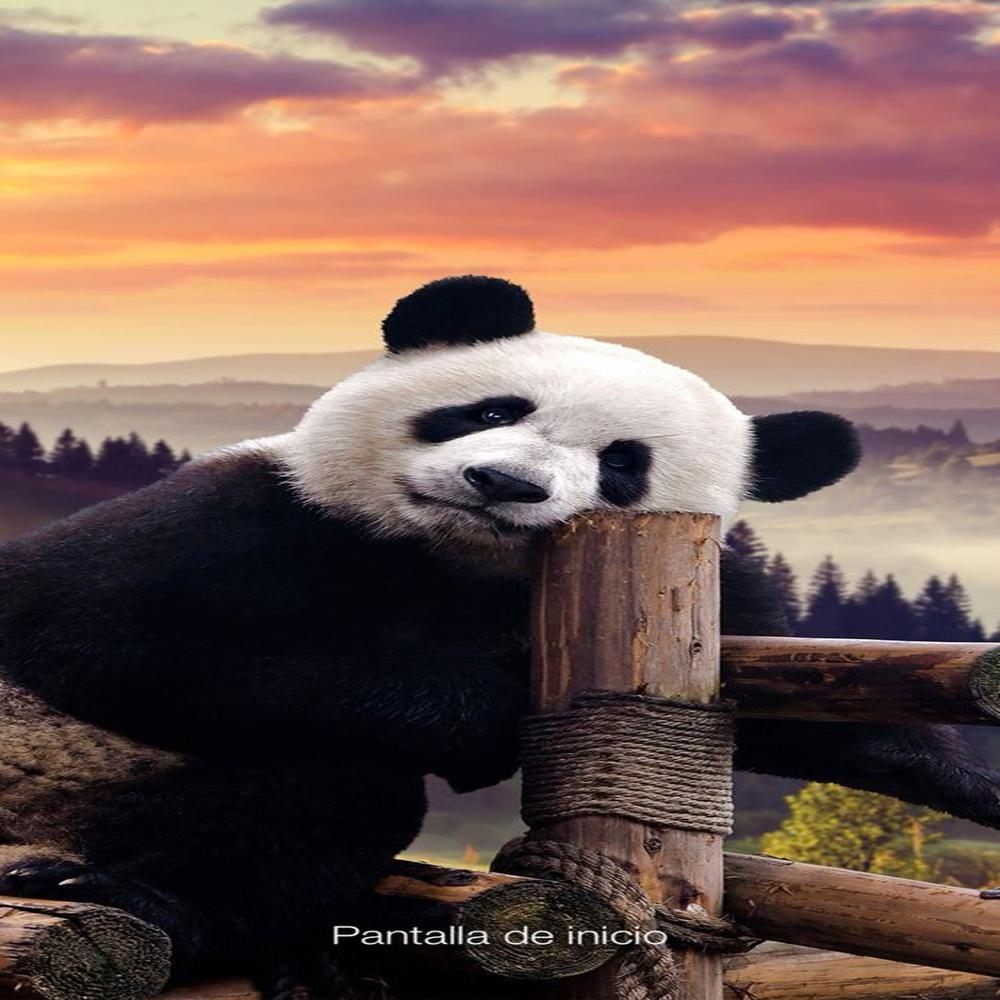panda: (0, 268, 856, 831)
